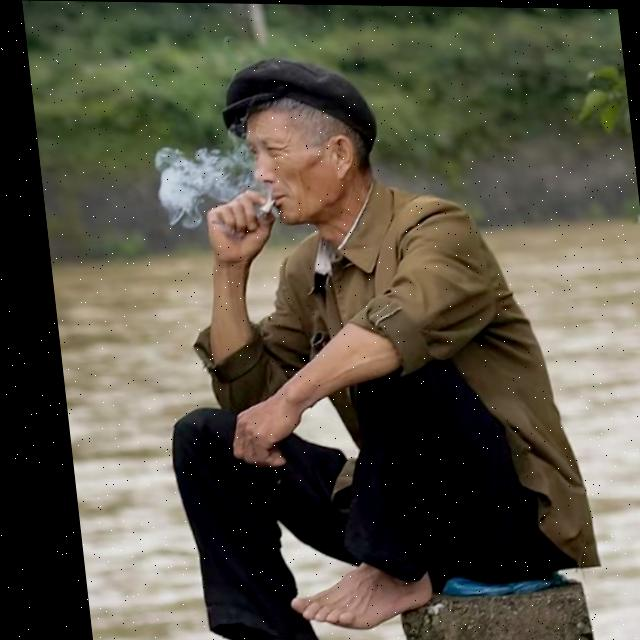cigarette: (250, 196, 273, 220)
